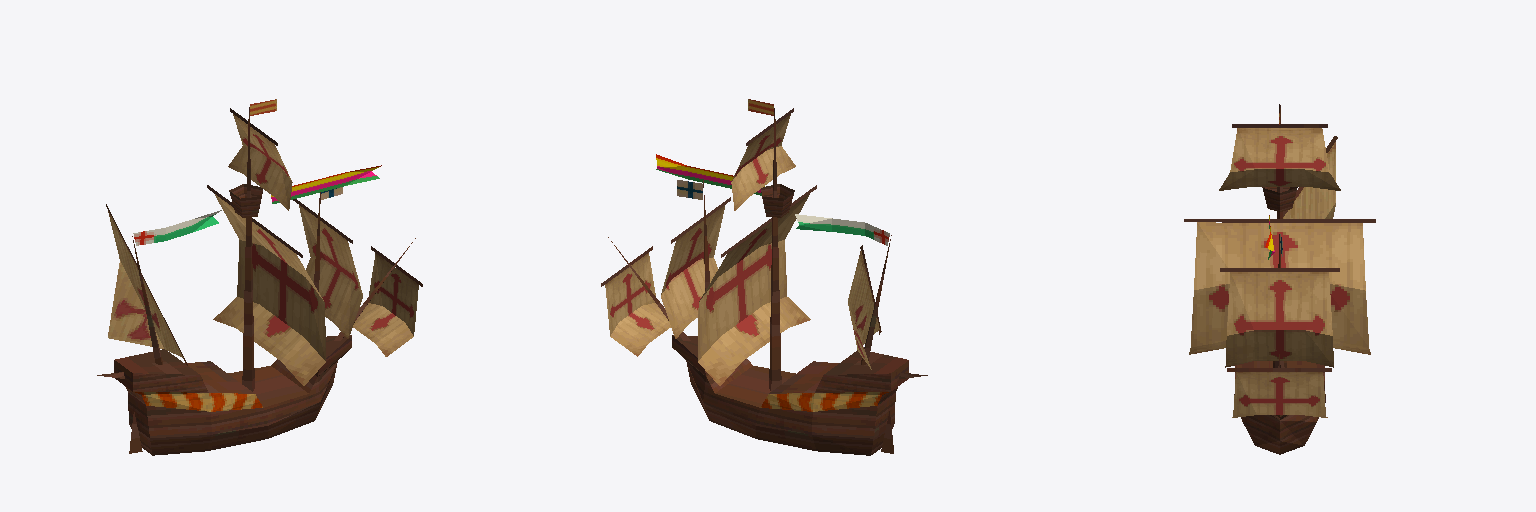
3 renders of one model, left to right at view 1: azimuth 30°, elevation 25°; view 2: azimuth 150°, elevation 25°; view 3: azimuth 270°, elevation 25°, orthographic.
Size of the model in its own units: 4.66 by 4.64 by 2.41.
1 materials, 1 textured.